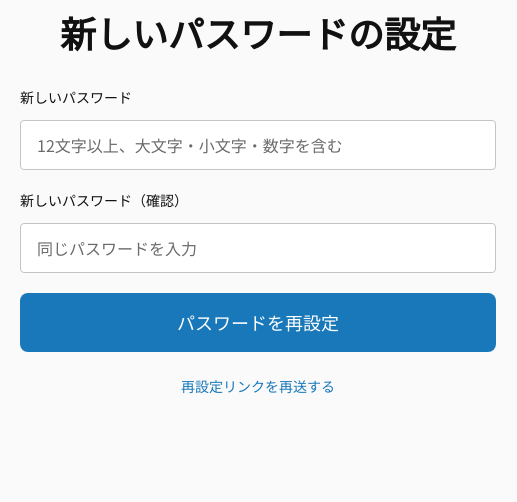
Test: ResetPasswordForm › 通信に失敗したらエラーを表示する
The width and height of the screenshot is (517, 502).
Type "NewPassword1" into the password field labelled "新しいパスワード" at (258, 145), box [20,120,496,170]
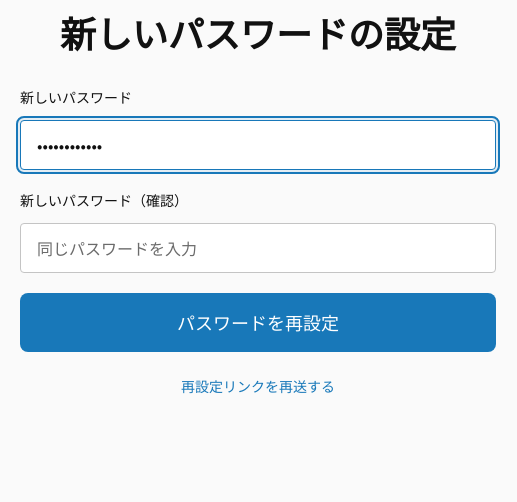
Type "NewPassword1" into the password field labelled "新しいパスワード（確認）" at (258, 248), box [20,223,496,273]
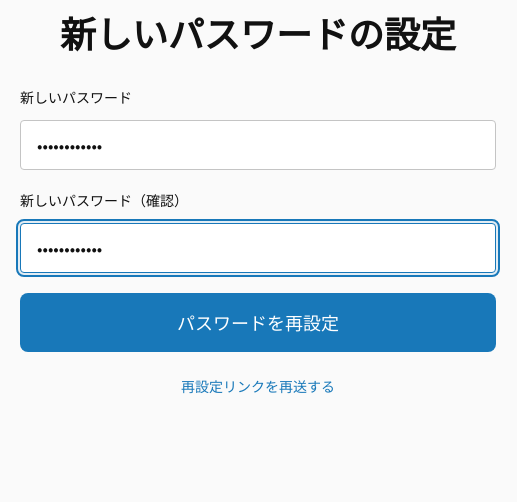
Click the button "パスワードを再設定" at (258, 322), box [20,293,496,352]
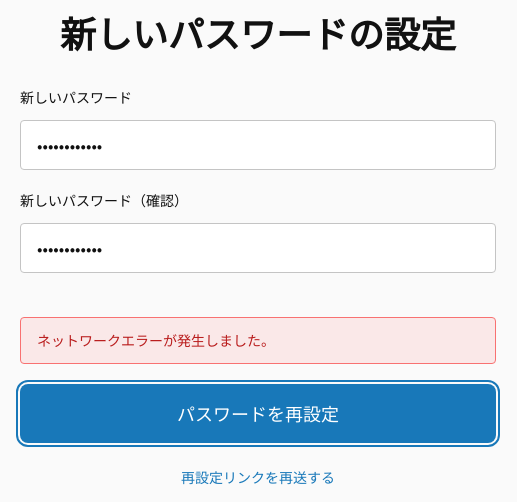
expect the message "ネットワークエラーが発生しました。" is shown: met, box [20,317,496,364]
